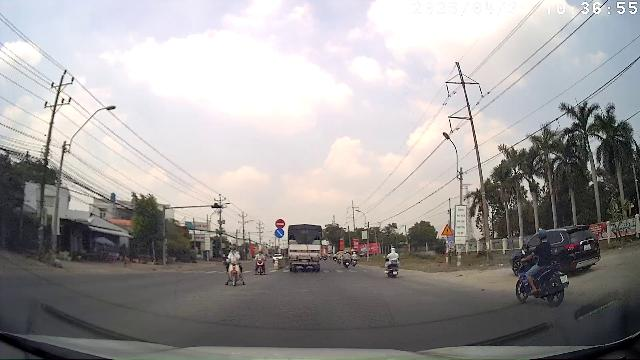102-cam-di-nguoc-chieu: (275, 219, 285, 228)
302a-huong-phai-di-vong-chuong-ngai-vat-1: (276, 229, 284, 238)
